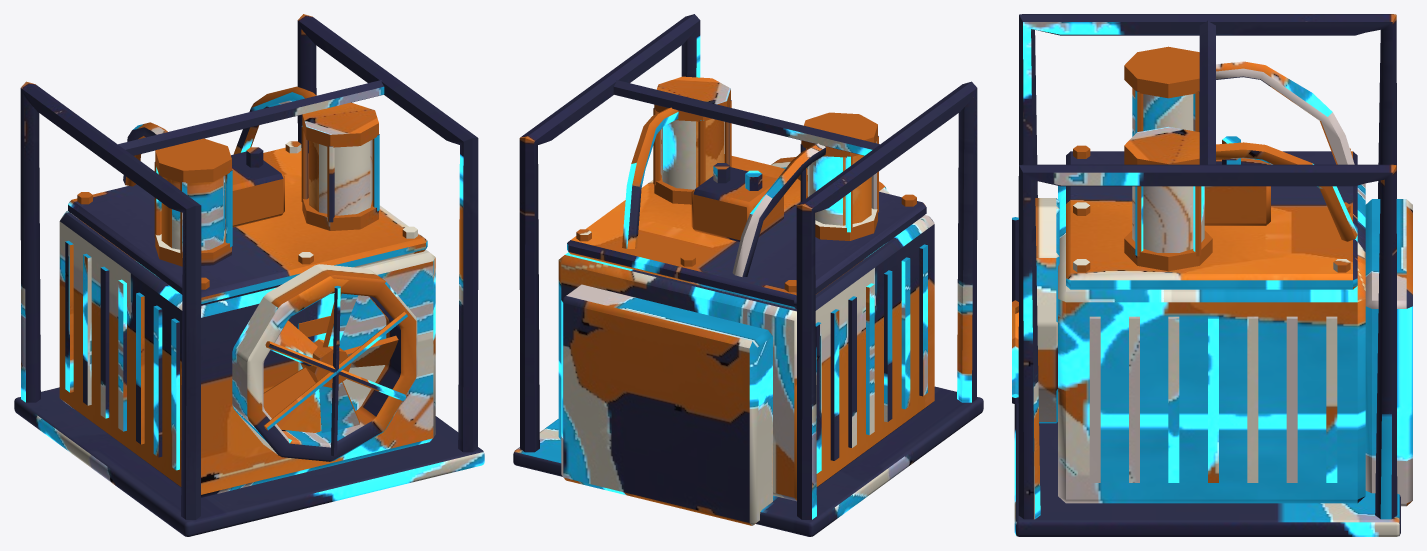
Rendered from R4X_Battery_LOD1.fbx.
3 views of the same model, side by side, from view 1: azimuth 30°, elevation 25°; view 2: azimuth 150°, elevation 25°; view 3: azimuth 270°, elevation 25° (orthographic). The views are drawn at different scales.
Visible parts, largest first — view 1: R4X_Battery_LOD1; view 2: R4X_Battery_LOD1; view 3: R4X_Battery_LOD1.
Boxes of the visible parts, left/top/right/bottom form: R4X_Battery_LOD1: left=14, top=14, right=484, bottom=536; R4X_Battery_LOD1: left=513, top=14, right=983, bottom=536; R4X_Battery_LOD1: left=1012, top=14, right=1412, bottom=536.
Size of the model in its own units: 0.49 by 0.5137 by 0.5083.
